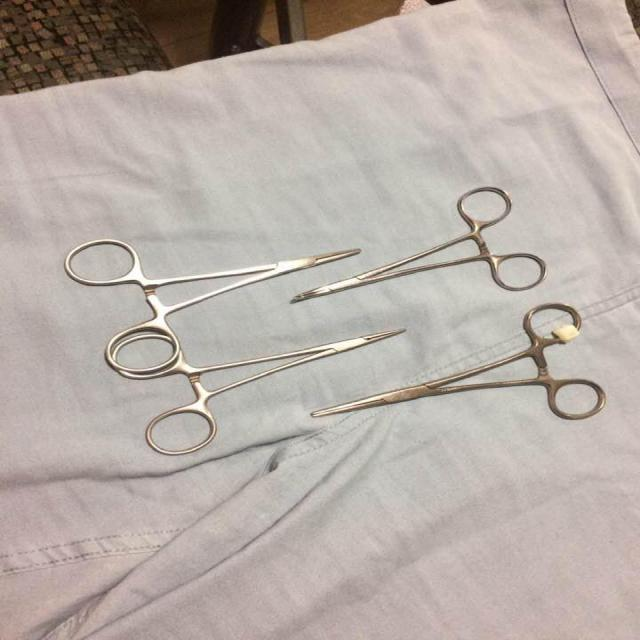Hemostat: (61, 236, 366, 376), (109, 327, 411, 458), (309, 300, 611, 423), (287, 184, 550, 305)
